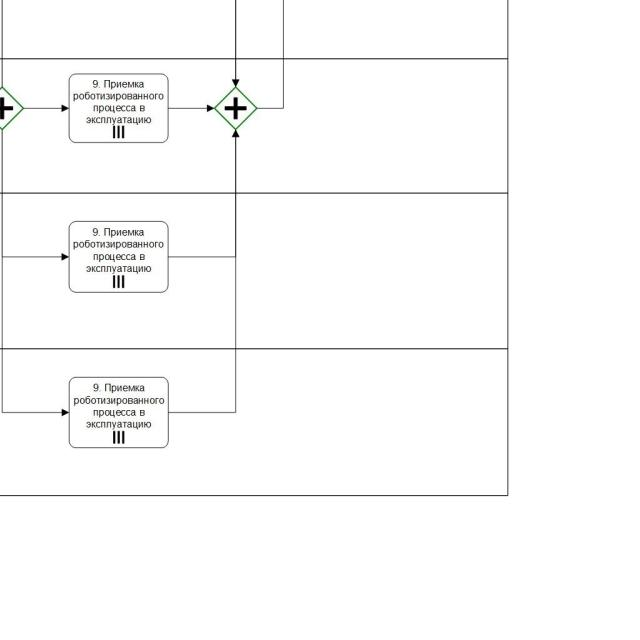arrow: (169, 130, 240, 414), (23, 103, 68, 114), (169, 103, 215, 112)
rectangle: (68, 375, 168, 449), (68, 221, 169, 294), (68, 74, 168, 142)
